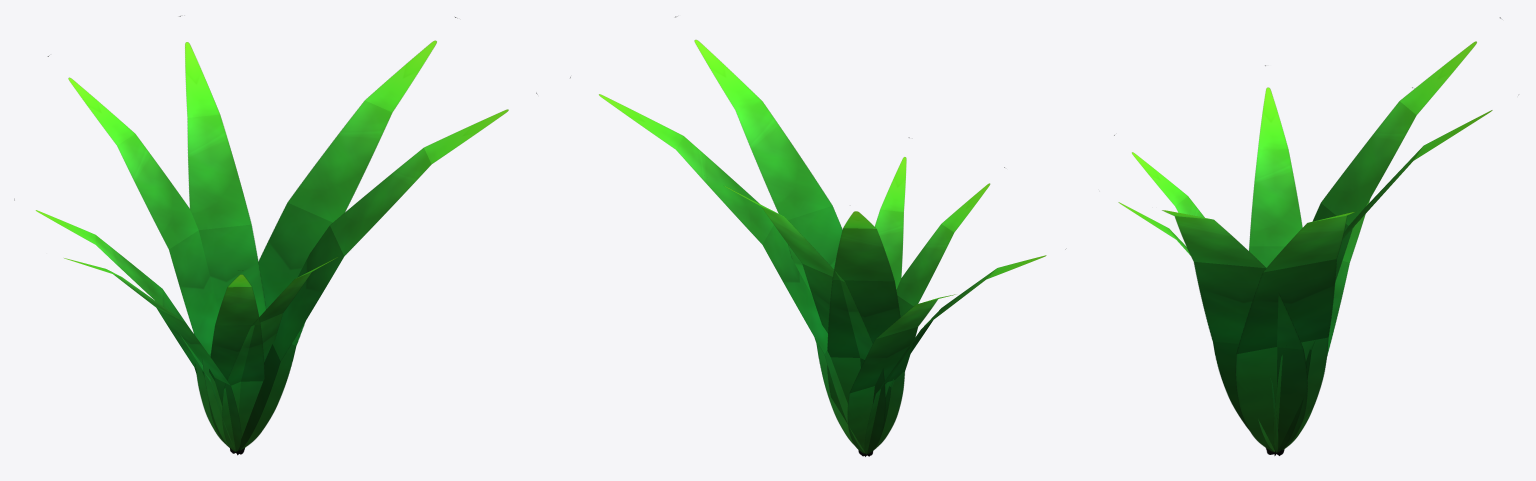
File: SM_Grass_B.glb
3 renders of one model, left to right at view 1: azimuth 30°, elevation 25°; view 2: azimuth 150°, elevation 25°; view 3: azimuth 270°, elevation 25°, orthographic. The views are drawn at different scales.
Visible parts, largest first — view 1: SM_Grass_B; view 2: SM_Grass_B; view 3: SM_Grass_B.
Part boxes in pixels (box(x1,y1,x2,y2)): SM_Grass_B: box(14, 16, 537, 455); SM_Grass_B: box(570, 16, 1065, 456); SM_Grass_B: box(1114, 17, 1500, 455).
Bounding box in the file's own units: 0.558 × 0.4043 × 0.3996.
1 material, 1 textured.
